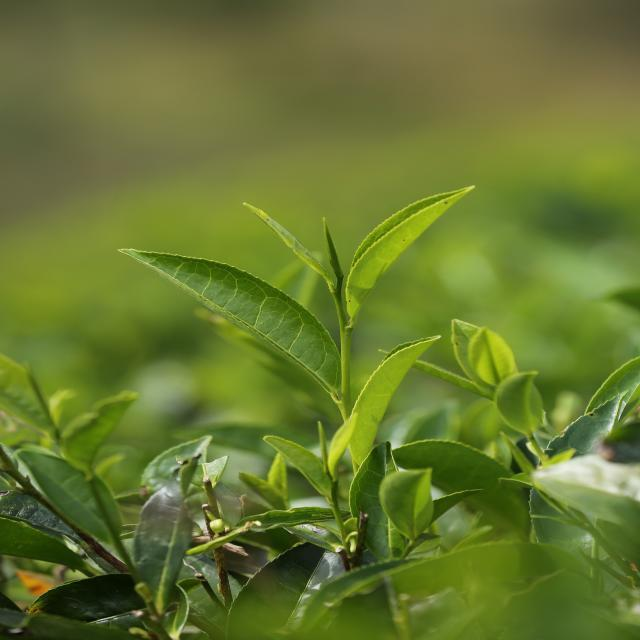Stem: (331, 291, 342, 303)
